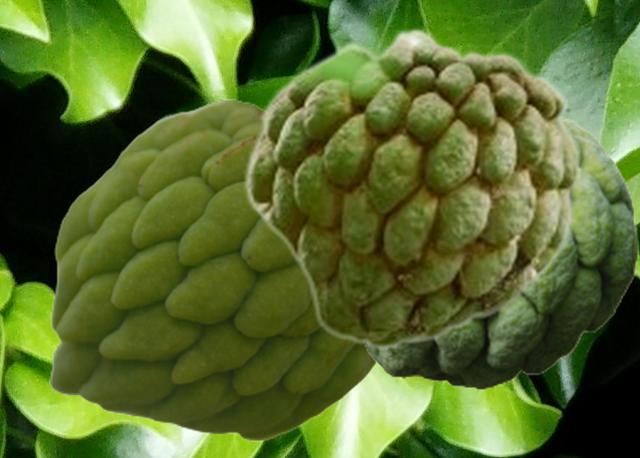atis: (49, 99, 377, 440), (241, 26, 581, 349), (360, 114, 637, 389)
